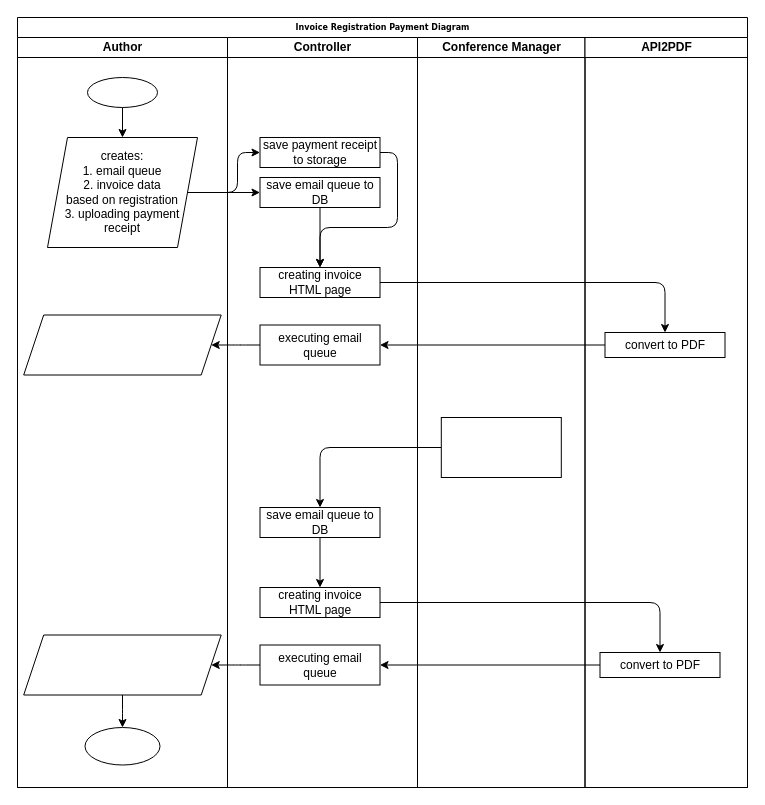
Some shapes in this 765 by 805 pixel diagram are drawn without their labels. The centre of each missing label's shape, as x and y in pixels:
finish: the point at 122,745
receive: 1. Email first confirmed invoice 2. PDF attachment paid invoice: the point at 122,664
receive: 1. Email first processed invoice 2. PDF attachment processed invoice: the point at 122,344
Start: the point at 122,92
validating the payment receipt & registration: the point at 500,447
